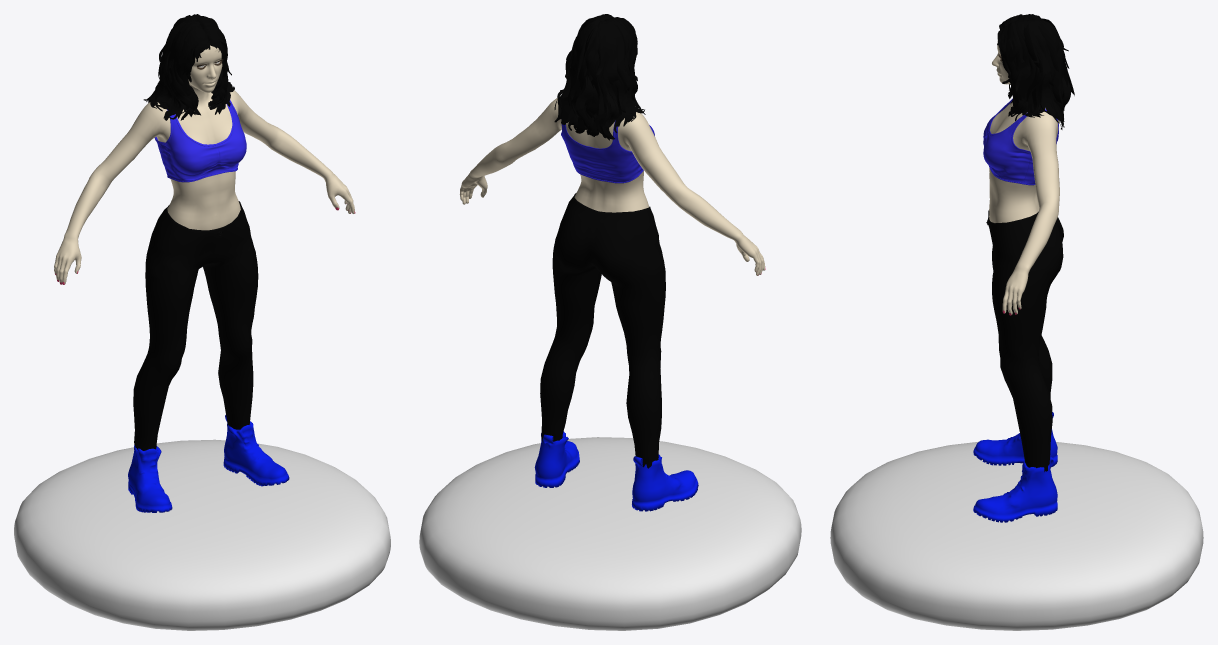
3 views of the same model, side by side, from view 1: azimuth 30°, elevation 25°; view 2: azimuth 150°, elevation 25°; view 3: azimuth 270°, elevation 25° (orthographic).
Visible parts, largest first — view 1: Cube, uploads_files_3315122_gil; view 2: Cube, uploads_files_3315122_gil; view 3: Cube, uploads_files_3315122_gil.
Boxes of the visible parts, left/top/right/bottom form: Cube: left=14, top=439, right=390, bottom=630; uploads_files_3315122_gil: left=54, top=14, right=355, bottom=512; Cube: left=419, top=437, right=801, bottom=630; uploads_files_3315122_gil: left=459, top=14, right=765, bottom=511; Cube: left=830, top=441, right=1203, bottom=630; uploads_files_3315122_gil: left=973, top=14, right=1074, bottom=522.
Bounding box in the file's own units: 1.83 × 3 × 1.83.
